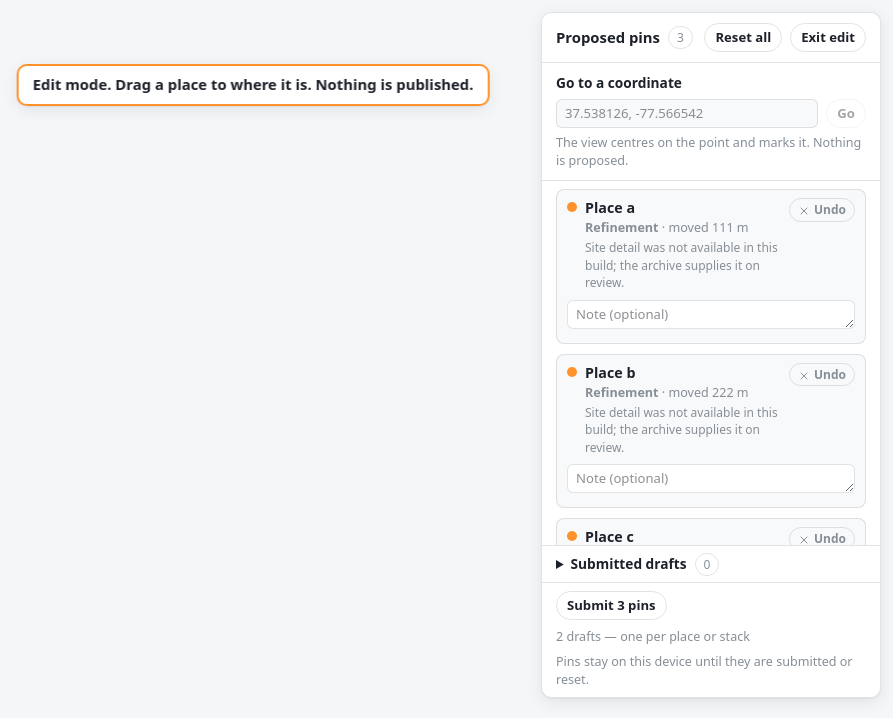
Test: Submit posts one draft per stack; a stored draft's pins leave the device; the results and the Submitted panel follow
Check: the text "3" is shown, box [668,26,693,49]
Check: the text "2 drafts — one per place or stack" is shown, box [556,628,750,646]
Click the button "Submit 3 pins": (611, 606) [556,591,666,620]
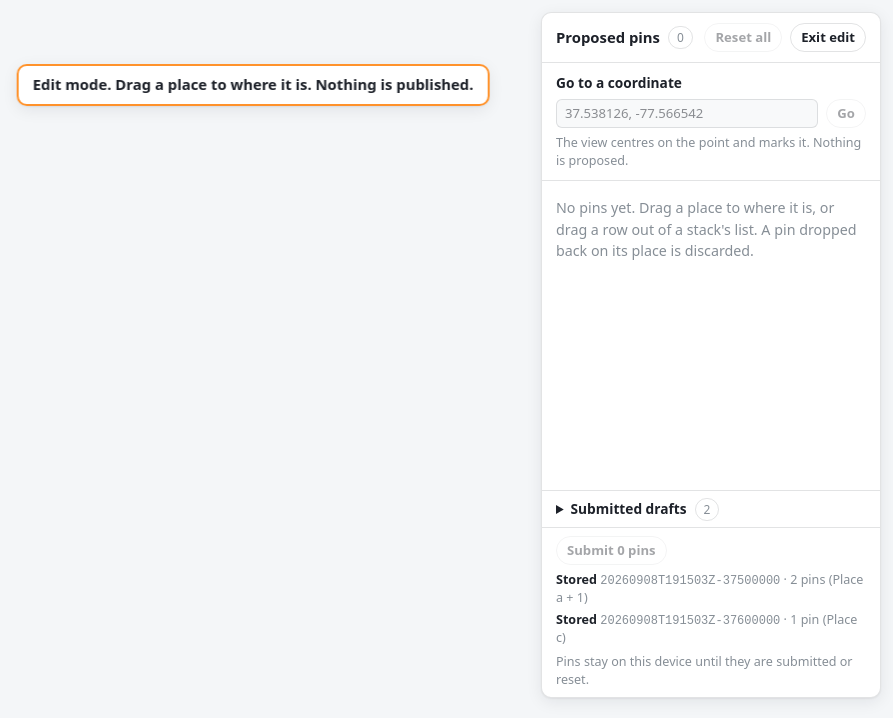
Check: the text "0" is shown, box [668,26,693,49]
Check: the list item "Stored 20260908T191503Z-37500000 · 2 pins (Place a + 1)" is shown, box [556,571,866,607]
Check: the list item "Stored 20260908T191503Z-37600000 · 1 pin (Place c)" is shown, box [556,611,866,647]
